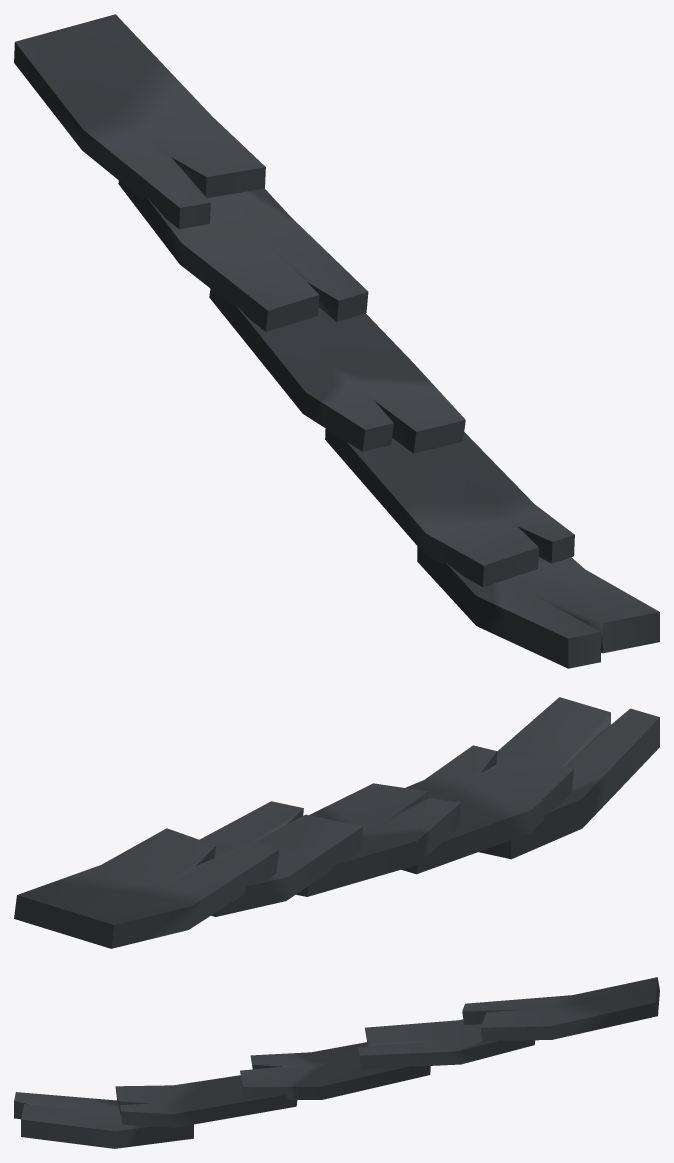
The model's file is SM_Bld_Roof_Trim_01.fbx.
The picture shows the model from 3 angles, top to bottom: view 1: azimuth 30°, elevation 25°; view 2: azimuth 150°, elevation 25°; view 3: azimuth 270°, elevation 25°; orthographic projection. The views are drawn at different scales.
Visible parts, largest first — view 1: SM_Bld_Roof_Trim_01; view 2: SM_Bld_Roof_Trim_01; view 3: SM_Bld_Roof_Trim_01.
Part boxes in pixels (<box>): SM_Bld_Roof_Trim_01: <box>14,14,659,668</box>; SM_Bld_Roof_Trim_01: <box>14,697,659,948</box>; SM_Bld_Roof_Trim_01: <box>14,977,659,1148</box>.
Bounding box in the file's own units: 37.56 × 76.84 × 311.
Materials: 1 (1 with a texture image).
